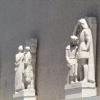Statue: (56, 13, 100, 94)
